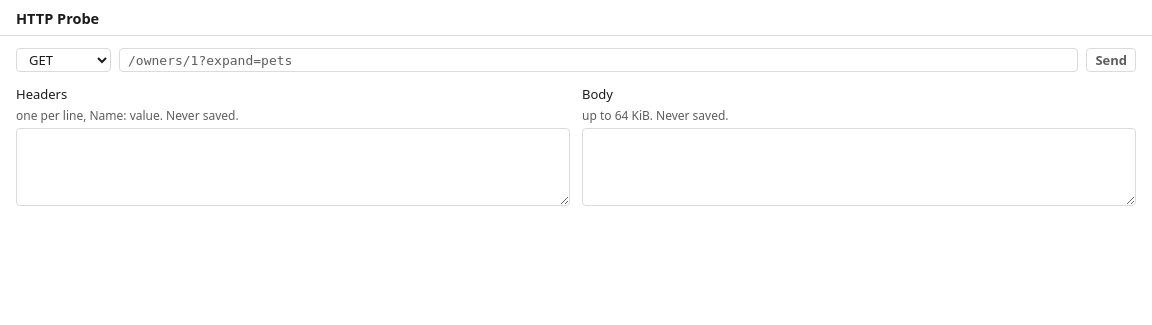
Test case: shows the server error for a refused request
Type "/sharpit/api/panels" into the field named "Path".
click(599, 60); type("/sharpit/api/panels")  # box [119,48,1078,72]
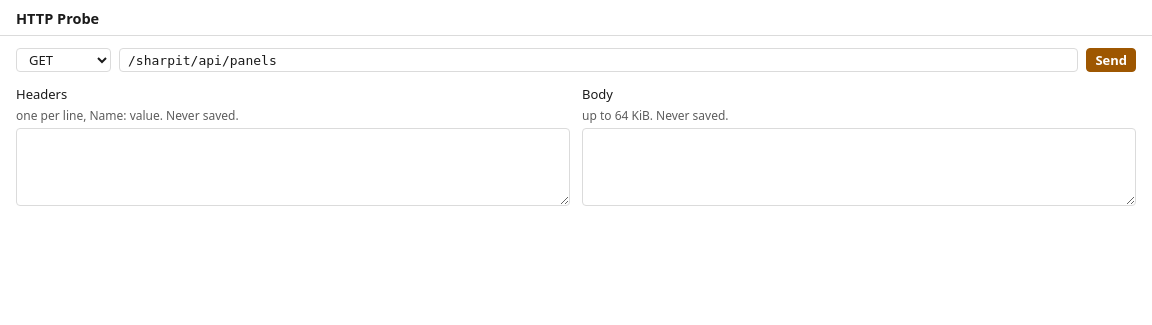
Click the button "Send".
click(1111, 60)  # box [1086,48,1136,72]
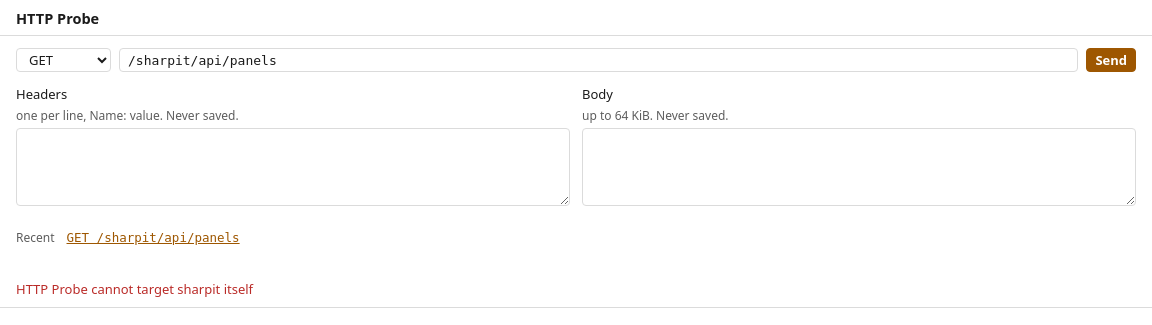
Now the message "HTTP Probe cannot target sharpit itself" is shown, box [0,271,1151,308]
